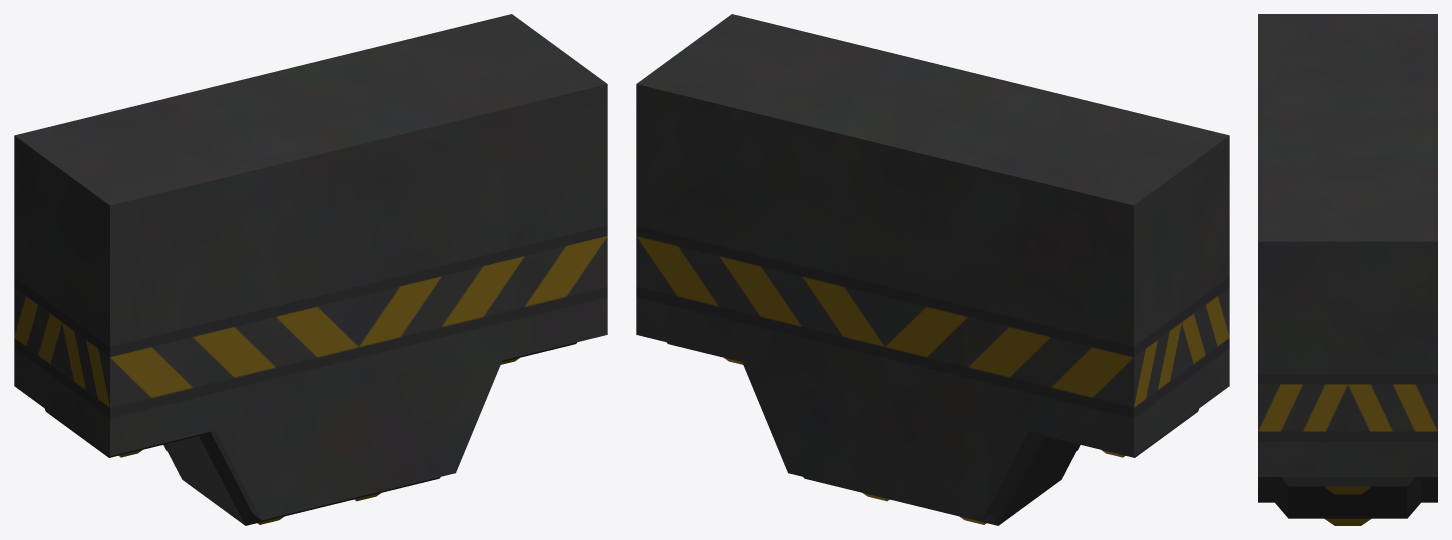
Rendered from Gate_top.glb.
3 renders of one model, left to right at view 1: azimuth 30°, elevation 25°; view 2: azimuth 150°, elevation 25°; view 3: azimuth 270°, elevation 25°, orthographic. The views are drawn at different scales.
Parts seen in each view (by area): view 1: Cube.001; view 2: Cube.001; view 3: Cube.001.
Boxes of the visible parts, <box> form: Cube.001: <box>14,14,607,525</box>; Cube.001: <box>636,14,1229,525</box>; Cube.001: <box>1258,14,1437,525</box>.
Bounding box in the file's own units: 6 × 4.56 × 2.
Materials: 1 (1 with a texture image).
